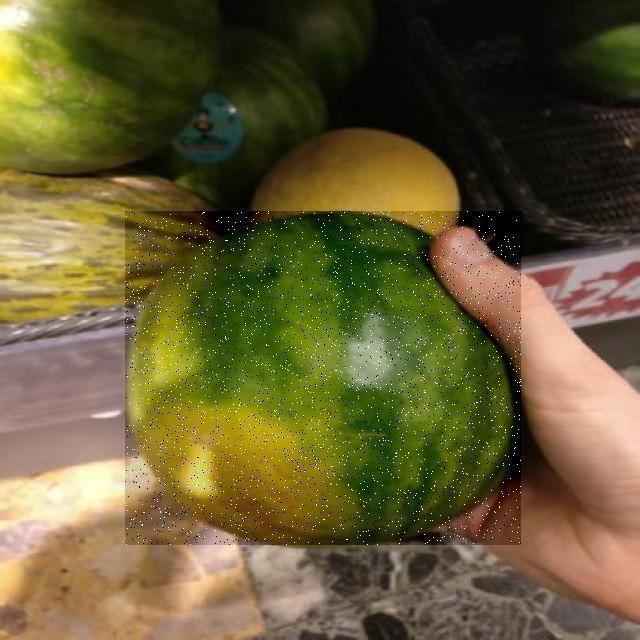Watermelon: (125, 211, 521, 545)
